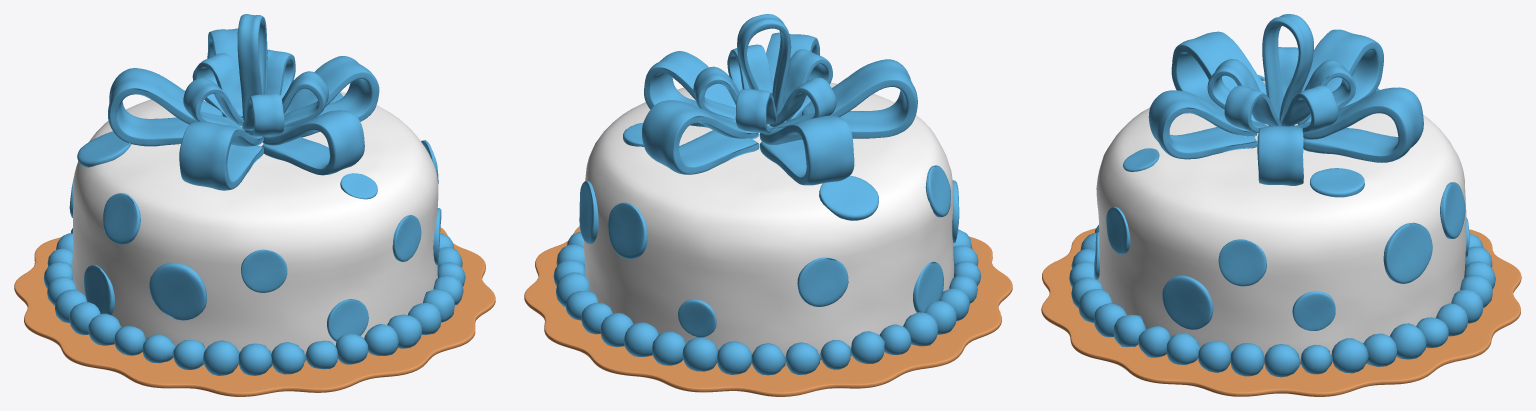
The picture shows the model from 3 angles, left to right: view 1: azimuth 30°, elevation 25°; view 2: azimuth 150°, elevation 25°; view 3: azimuth 270°, elevation 25°; orthographic projection.
Visible parts, largest first — view 1: body, ribbon, base, balls, decorations; view 2: body, ribbon, balls, base, decorations; view 3: body, ribbon, balls, base, decorations.
Boxes of the visible parts, box(x1,y1,x2,y2) form: body: box(72, 90, 438, 360); ribbon: box(108, 14, 379, 190); base: box(14, 227, 495, 396); balls: box(43, 228, 465, 375); decorations: box(69, 92, 441, 341); body: box(584, 82, 954, 360); ribbon: box(642, 14, 917, 185); balls: box(553, 229, 980, 375); base: box(524, 226, 1012, 396); decorations: box(579, 122, 959, 337); body: box(1096, 80, 1466, 364); ribbon: box(1148, 14, 1423, 185); balls: box(1069, 225, 1495, 377); base: box(1041, 228, 1521, 396); decorations: box(1094, 75, 1469, 330).
Size of the model in its own units: 2.59 by 1.66 by 2.59.
